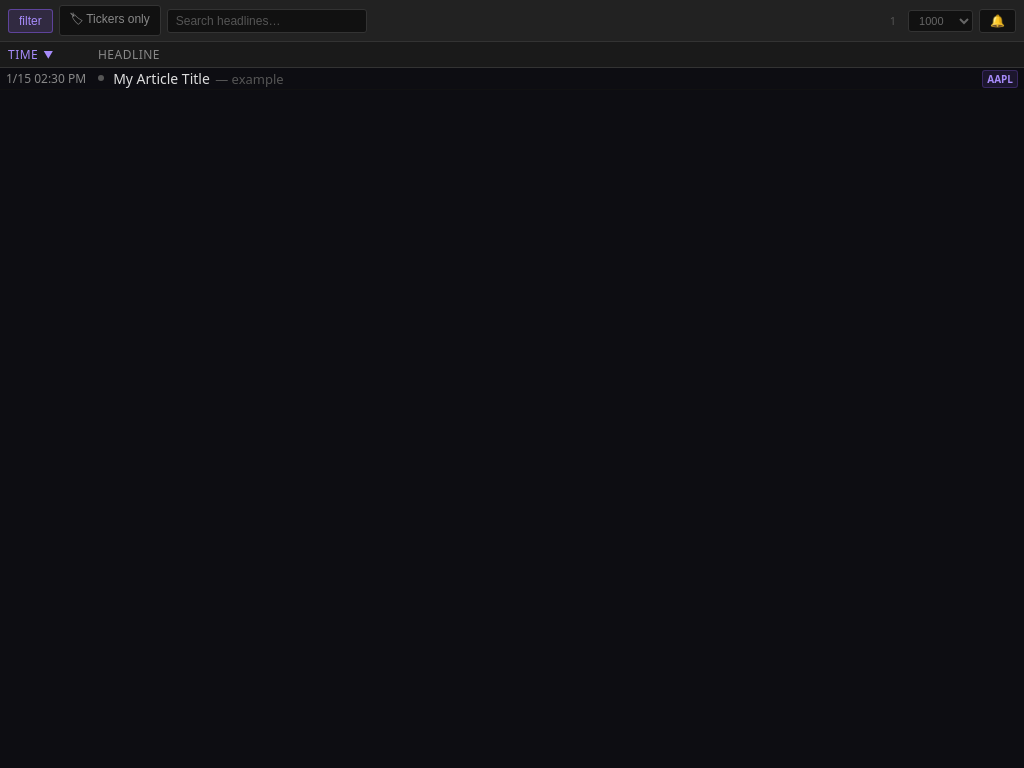
modal open and close › with row click expect modal opens with article title
The width and height of the screenshot is (1024, 768).
# Act — click a table row
Click the element showing "1/15 02:30 PM My Article Title — example AAPL" at {"x": 512, "y": 79}, box [0, 68, 1023, 90]
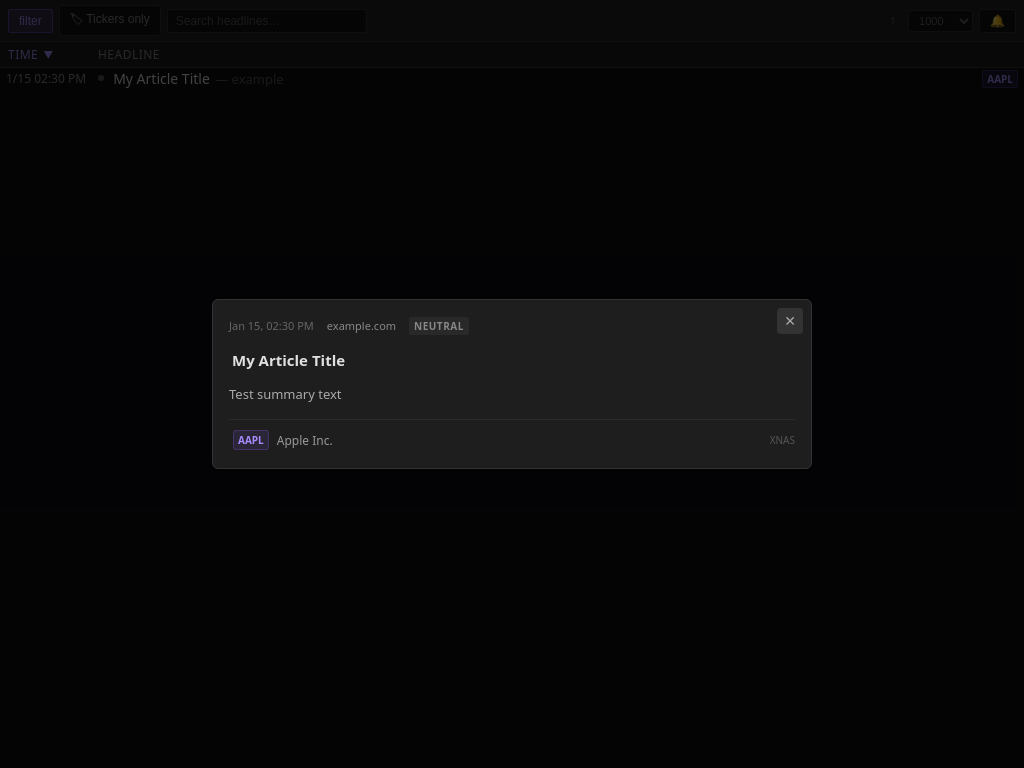
Now the link with class "modal-title" reads "My Article Title", box [232, 350, 345, 370]
